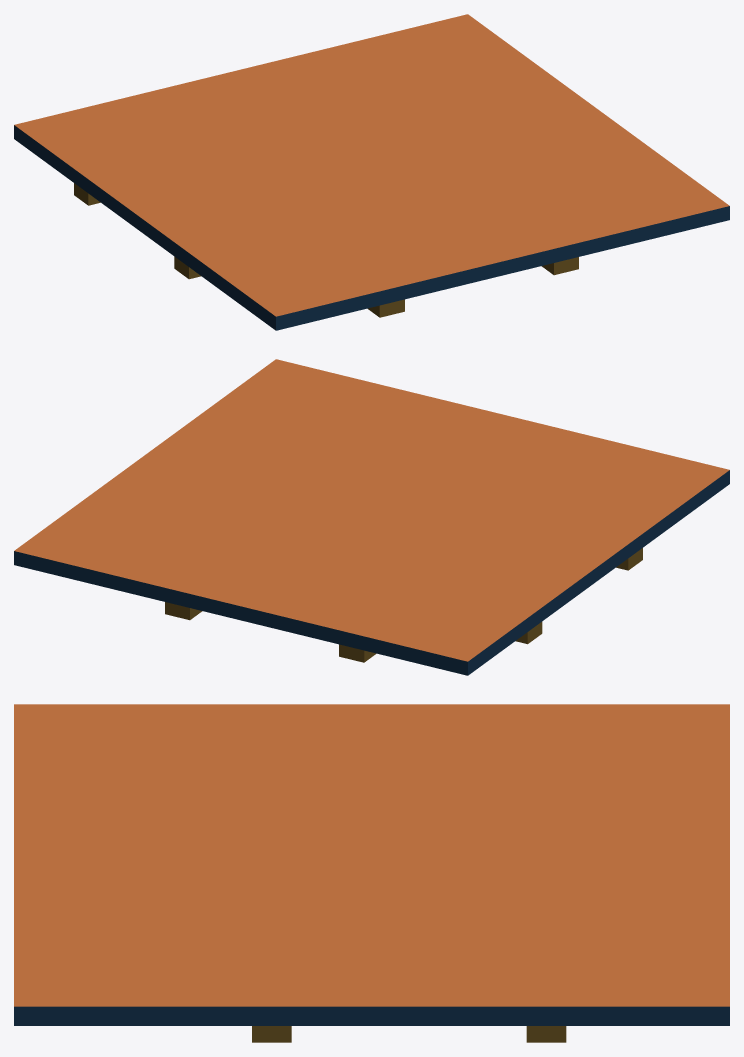
Rendered from CornerFloor.fbx.
The picture shows the model from 3 angles, top to bottom: view 1: azimuth 30°, elevation 25°; view 2: azimuth 150°, elevation 25°; view 3: azimuth 270°, elevation 25°; orthographic projection. The views are drawn at different scales.
Visible parts, largest first — view 1: polySurface79; view 2: polySurface79; view 3: polySurface79.
Boxes of the visible parts, x1,y1,x2,y2 form: polySurface79: (14,14,729,330); polySurface79: (14,359,729,675); polySurface79: (14,704,729,1042).
Size of the model in its own units: 2.72 by 0.151 by 2.72.
